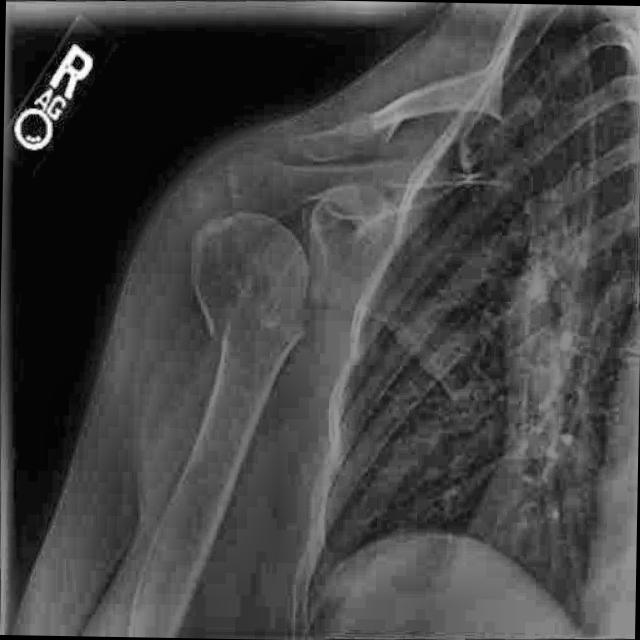shoulder fracture: (160, 264, 339, 379)
